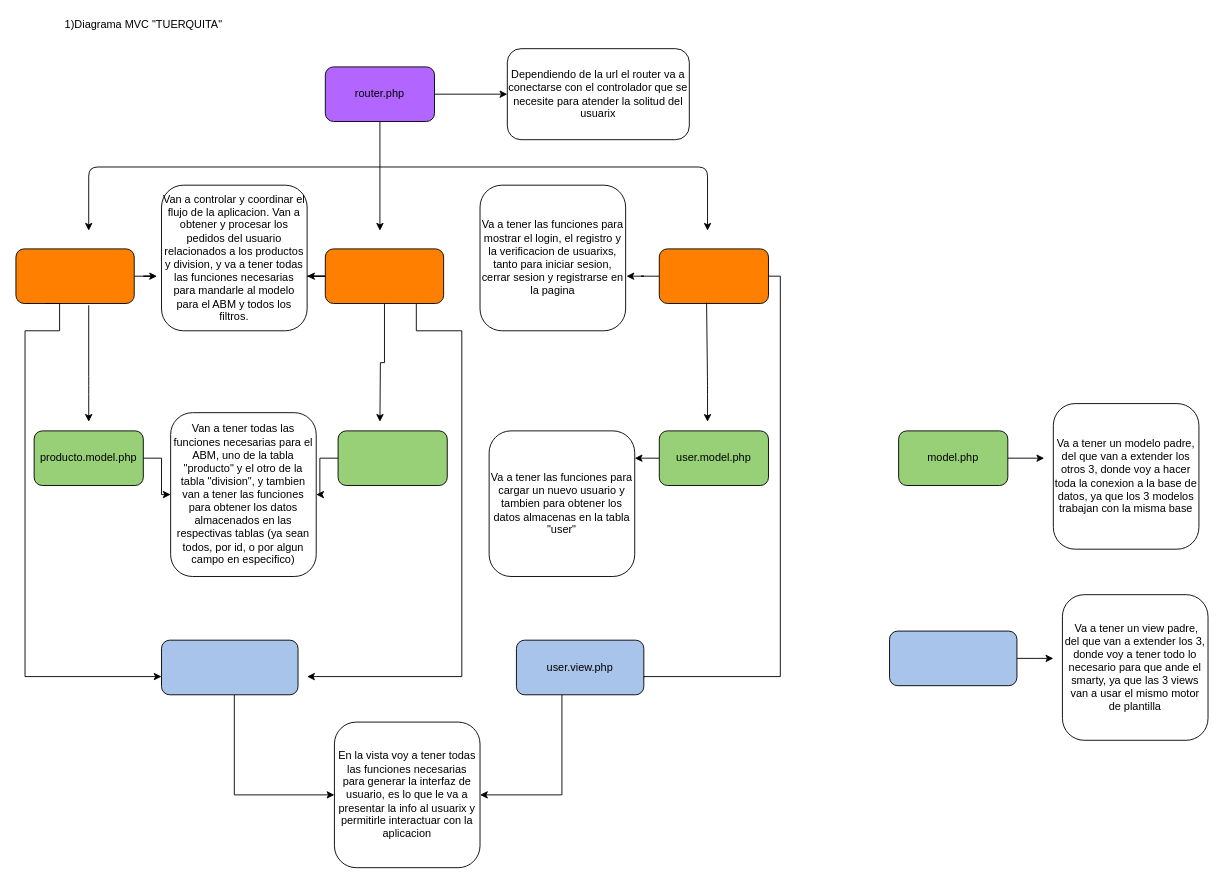
Image size: 1224x884. Some labels were removed from this diagram. Here are the shapes that lost their labels. From the top down, the centre of each, then its label:
At (x=74, y=275): "producto.controller.php".
At (x=384, y=275): "division.controller.php".
At (x=713, y=275): "user.controller.php".
At (x=392, y=457): "division.model.php".
At (x=229, y=667): "producto.division.view.php".
At (x=953, y=658): "view.php".
